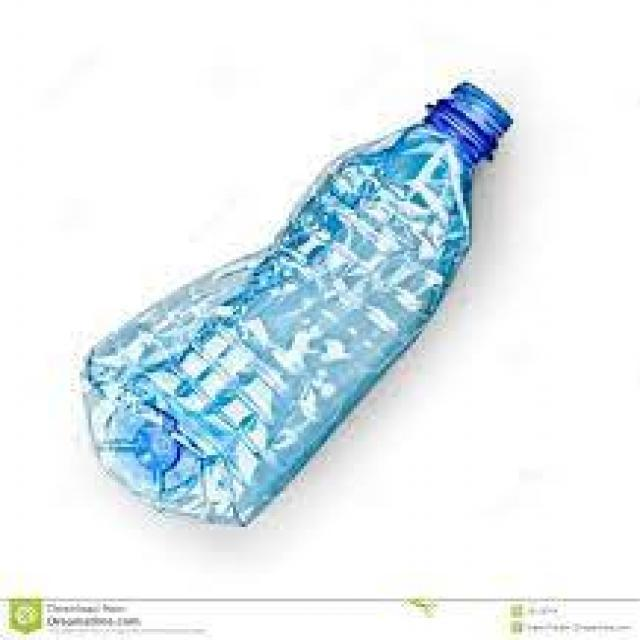plastic_bottle: (80, 80, 513, 527)
